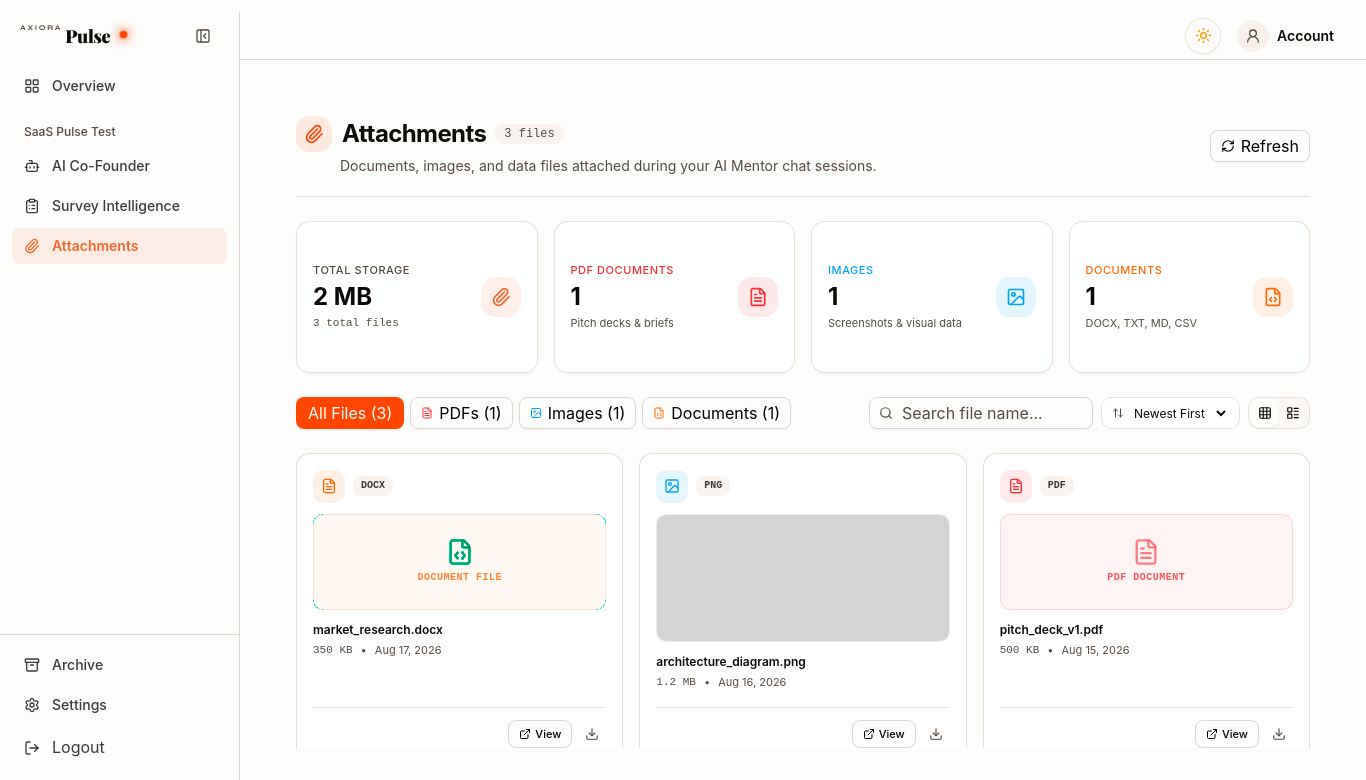
Test: WorkspaceAttachmentsPage › switches between Grid and Table view
Switch to table view
What coordinates should you click on to do the following:
click the button named "Table view"
I would click on:
 (1293, 413)
Its box is [1279,399,1307,427].
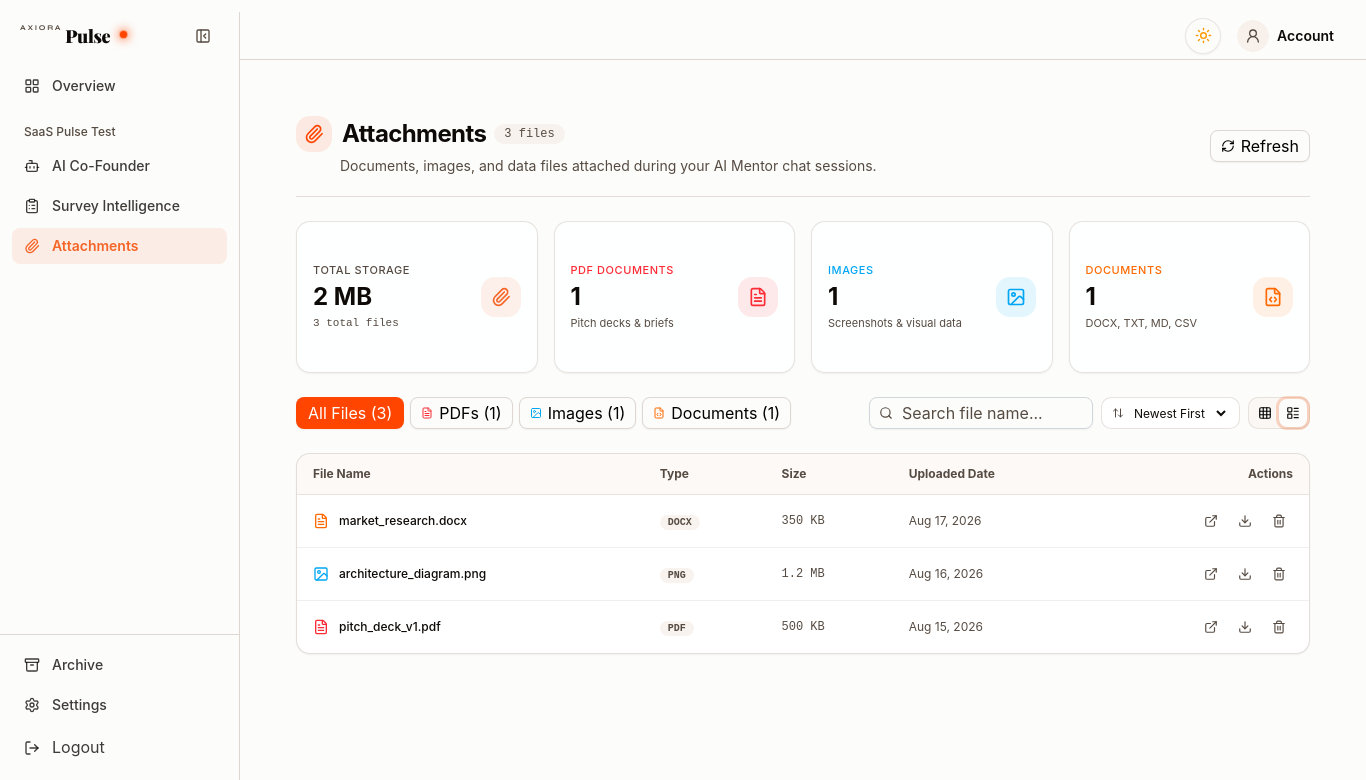
Now the table is shown, box [297,454,1309,653]
Now the column heading "File Name" is shown, box [297,454,644,495]
